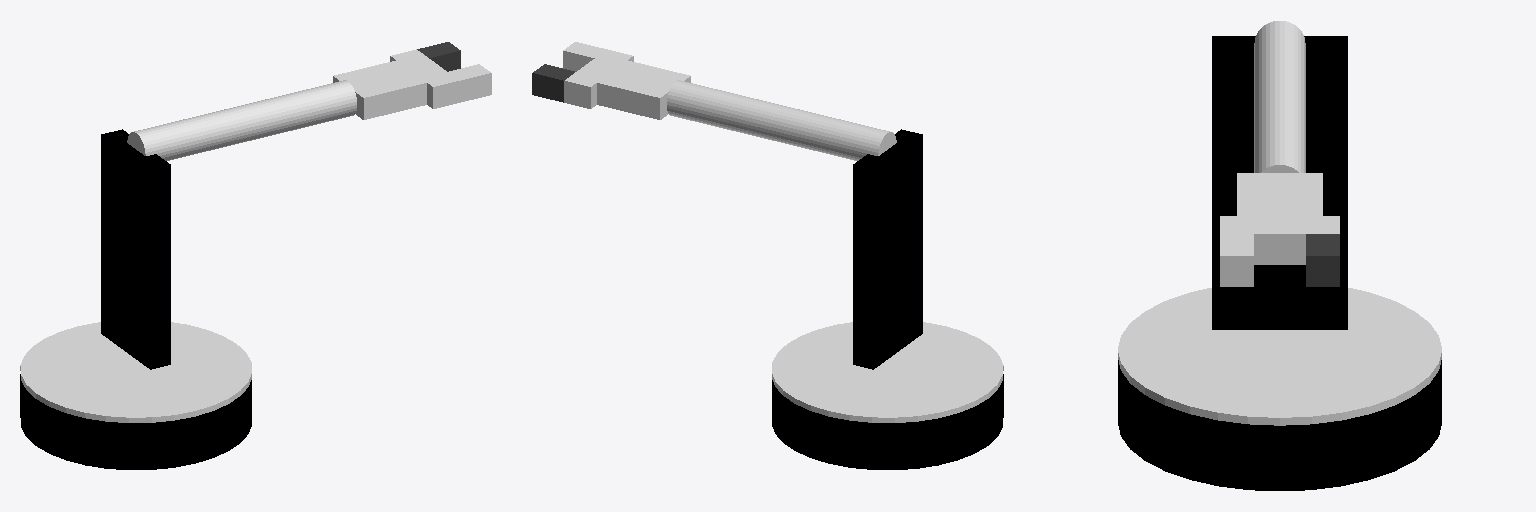
robot.urdf — lynxmotion_arm:
<?xml version="1.0"?>
<robot xmlns:xacro="http://www.ros.org/wiki/xacro" name="lynxmotion_arm">
	<link name="base_link">
		<visual>
			<geometry>
				<cylinder length="0.04" radius="0.095" />
			</geometry>
			<material name="red">
				<color rgba="0 0 0 1" />
			</material>
			<origin xyz="0 0 0.02" rpy="0 0 0" />
		</visual>
	</link>
	<link name="turret">
		<visual>
			<geometry>
				<cylinder length="0.005" radius="0.095" />
			</geometry>
			<material name="gray" />
		</visual>
	</link>
	<link name="upperarm">
		<visual>
			<geometry>			
				<box size="0.02 0.08 0.18" />
			</geometry>
			<material name="red" />
			<origin xyz="0 0 0.09" rpy="0 0 0" />
		</visual>	
	</link>
	<link name="forearm" >
		<visual>
			<geometry>
				<cylinder length="0.20" radius="0.015" />
			</geometry>
			<material name="gray" >
				<color rgba="0.9 0.9 0.9 1" />
			</material>
			<origin xyz="0 0 0.10" rpy="0 0 0" />
		</visual>
	</link>
	<link name="wrist">
		<visual>
			<geometry>			
				<box size="0.02 0.05 0.06" />
			</geometry>
			<material name="gray" />
			<origin xyz="0 0 0.03" rpy="0 0 0" />
		</visual>
	</link>
	<link name="hand">
		<visual>
			<geometry>
				<box size="0.02 0.07 0.025" />
			</geometry>
			<material name="gray" />
			<origin xyz="0 0 0.0125" rpy="0 0 0" />
		</visual>
	</link>
	<link name="gripper_left">
		<visual>
			<geometry>
				<box size="0.02 0.02 0.03" />
			</geometry>
			<origin xyz="0 0 0.015" rpy="0 0 0" />
			<material name="gray" >
				<color rgba="0.3 0.3 0.3 1" />
			</material>
		</visual>
	</link>
	<link name="gripper_right">
		<visual>
			<geometry>
				<box size="0.02 0.02 0.03" />
			</geometry>
			<origin xyz="0 0 0.015" rpy="0 0 0" />
			<material name="gray" />
		</visual>
	</link>
	<joint name="base_link2turret" type="revolute">
		<parent link="base_link" />
		<child link="turret" />
		<origin xyz="0 0 0.045" rpy="0 0 0" />
		<axis xyz="0 0 -1" />
		<limit effort="1000.0" lower="-1.5" upper="1.5" velocity="3.1416" />
	</joint>
	<joint name="turret2upperarm" type="revolute">
		<parent link="turret" />
		<child link="upperarm" />
		<origin xyz="0 0 0.02" rpy="0 0 0" />
		<axis xyz="0 -1 0" />
		<limit effort="1000.0" lower="-1.5" upper="1.5" velocity="3.1416" />
	</joint>
	<joint name="upperarm2forearm" type="revolute">
		<parent link="upperarm" />
		<child link="forearm" />
		<origin xyz="0 0 0.18" rpy="0 1.5708 0" />
		<axis xyz="0 1 0" />
		<limit effort="1000.0" lower="-1.5" upper="1.5" velocity="3.1416" />
	</joint>
	<joint name="forearm2wrist" type="revolute">
		<parent link="forearm" />
		<child link="wrist" />
		<origin xyz="0 0 0.20" rpy="0 0 0" />
		<axis xyz="0 -1 0" />
		<limit effort="1000.0" lower="-1.5" upper="1.5" velocity="3.1416" />
	</joint>
	<joint name="wrist2hand" type="revolute">
		<parent link="wrist" />
		<child link="hand" />
		<origin xyz="0 0 0.06" rpy="0 0 0" />
		<axis xyz="0 0 1" />
		<limit effort="1000.0" lower="-1.5" upper="1.5" velocity="3.1416" />
	</joint>
	<joint name="gripper_left2hand" type="prismatic">
		<parent link="hand" />
		<child link="gripper_left" />
		<origin xyz="0 0.025 0.025" rpy="0 0 0" />
		<limit effort="1000.0" lower="-0.02" upper="0.02" velocity="0.5" />
		<axis xyz="0 -1 0" />
	</joint>
	<joint name="gripper_right2hand" type="prismatic">
		<parent link="hand" />
		<child link="gripper_right" />
		<origin xyz="0 -0.025 0.025" rpy="0 0 0" />
		<limit effort="1000.0" lower="0.02" upper="-0.02" velocity="0.5" />
		<axis xyz="0 1 0" />
                <mimic joint="gripper_left2hand" multiplier="1" offset="0"/>
	</joint>
</robot>

--- What the picture shows (computed from the rendered views, not written in the file) ---
The picture shows the robot from 3 angles, left to right: view 1: azimuth 30°, elevation 25°; view 2: azimuth 150°, elevation 25°; view 3: azimuth 270°, elevation 25°; orthographic projection.
Model lynxmotion_arm with 8 links and 7 joints (5 revolute, 2 prismatic), rooted at base_link, posed every joint at zero.
Visible links, largest first — view 1: turret, upperarm, base_link, forearm, wrist, hand, gripper_right, gripper_left; view 2: turret, upperarm, base_link, forearm, wrist, hand, gripper_left, gripper_right; view 3: turret, upperarm, base_link, forearm, hand, wrist, gripper_left, gripper_right.
Boxes of the visible links, x1,y1,x2,y2 form: turret: (20,322,251,422); upperarm: (101,129,170,369); base_link: (20,374,251,469); forearm: (127,80,356,160); wrist: (333,60,426,119); hand: (390,49,459,108); gripper_right: (449,64,491,102); gripper_left: (417,42,460,71); turret: (772,322,1003,422); upperarm: (853,129,922,369); base_link: (772,374,1003,469); forearm: (667,80,896,160); wrist: (597,60,690,119); hand: (564,49,633,108); gripper_left: (532,64,574,102); gripper_right: (563,42,606,71); turret: (1118,288,1441,425); upperarm: (1212,36,1347,329); base_link: (1118,360,1441,490); forearm: (1254,21,1305,172); hand: (1220,216,1339,264); wrist: (1237,173,1322,215); gripper_left: (1306,234,1339,286); gripper_right: (1220,234,1253,286).
Bounding box of the posed robot: 0.41 × 0.19 × 0.26 m (x, y, z).
Geometry: primitives only (box / cylinder / sphere), no mesh files.